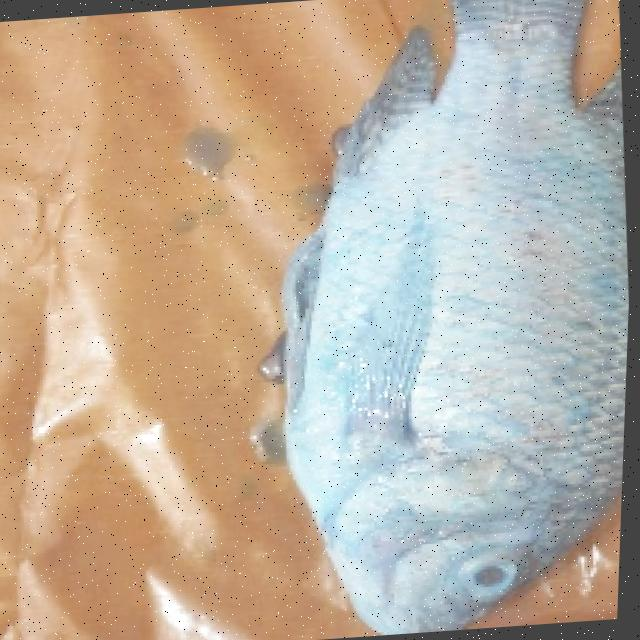Non-Fresh: (237, 145, 636, 640), (450, 528, 537, 616)
